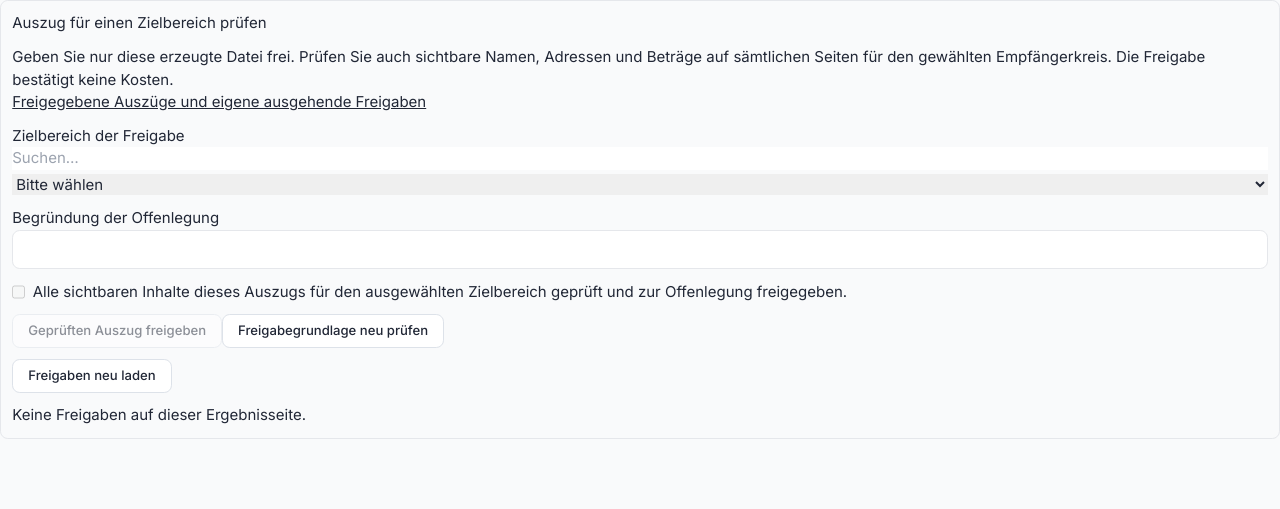
Scenario: handles an uncertain publication followed by target status 404
Select "Selected destination · WEG" in the dropdown named "Zielbereich der Freigabe" at coordinates (640, 184), box [12,174,1268,194]
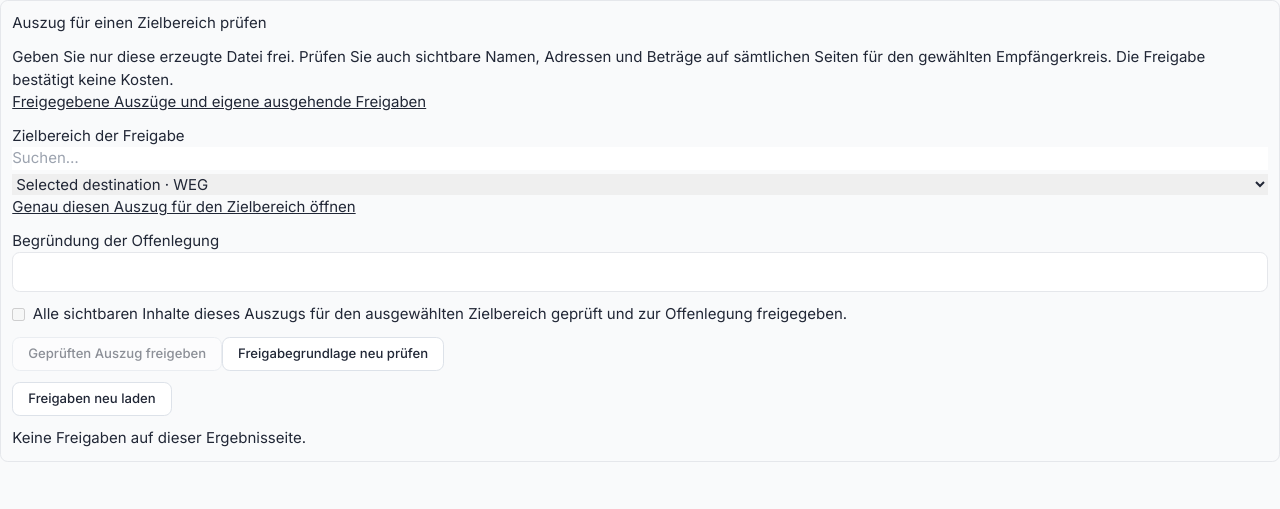
Click the link "Genau diesen Auszug für den Zielbereich öffnen" at coordinates (184, 206), box [12,197,356,216]
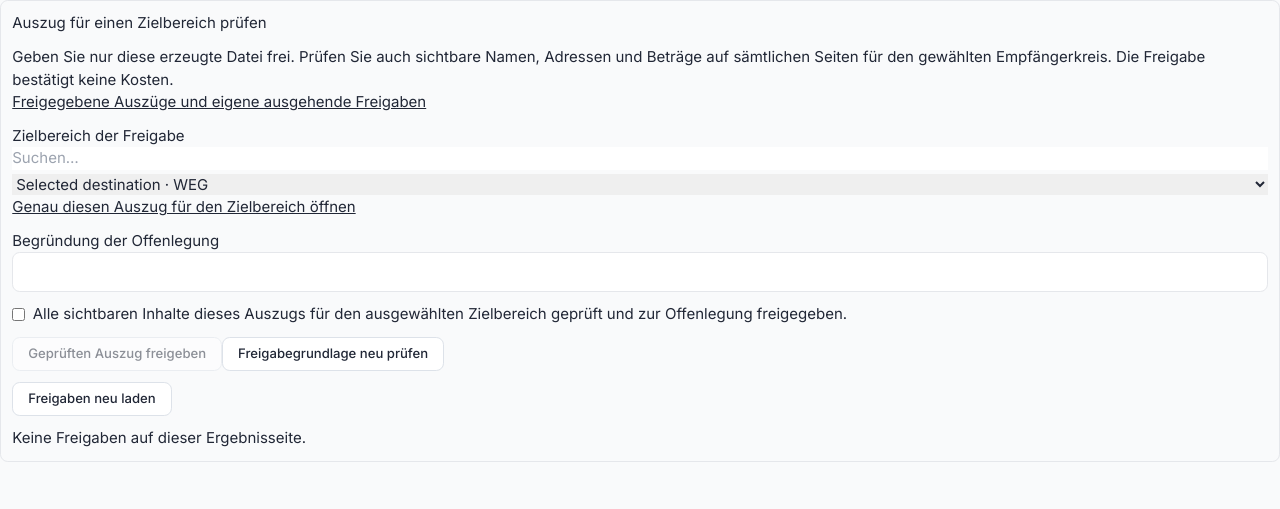
Type "Visible content reviewed for chosen audience" into the field labelled "Begründung der Offenlegung" at coordinates (640, 272), box [12,252,1268,292]
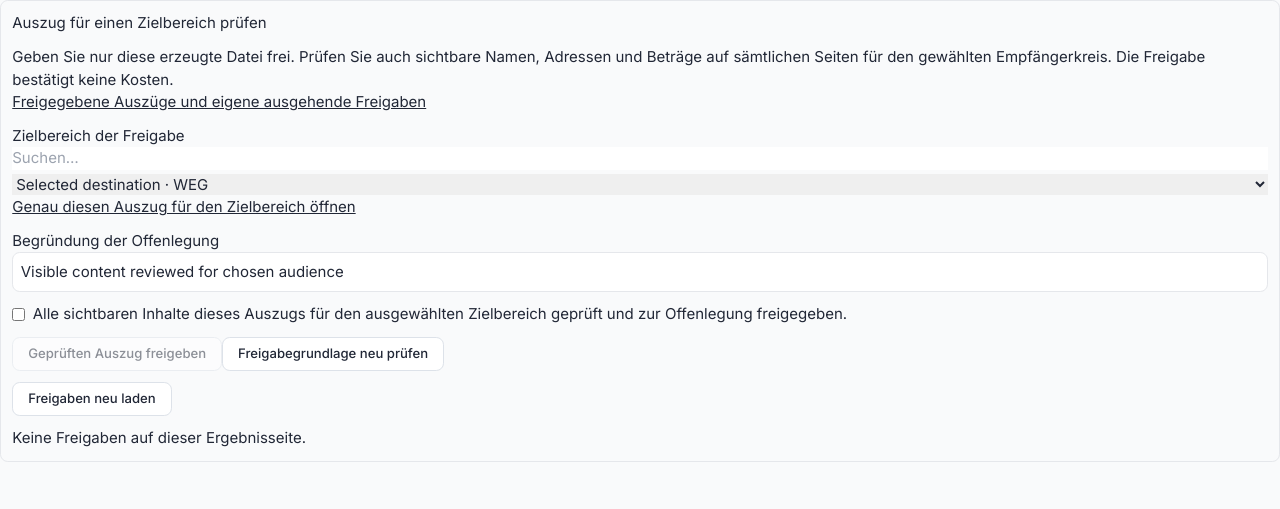
Click the checkbox labelled "Alle sichtbaren Inhalte dieses Auszugs" at coordinates (19, 314), box [12,303,25,326]
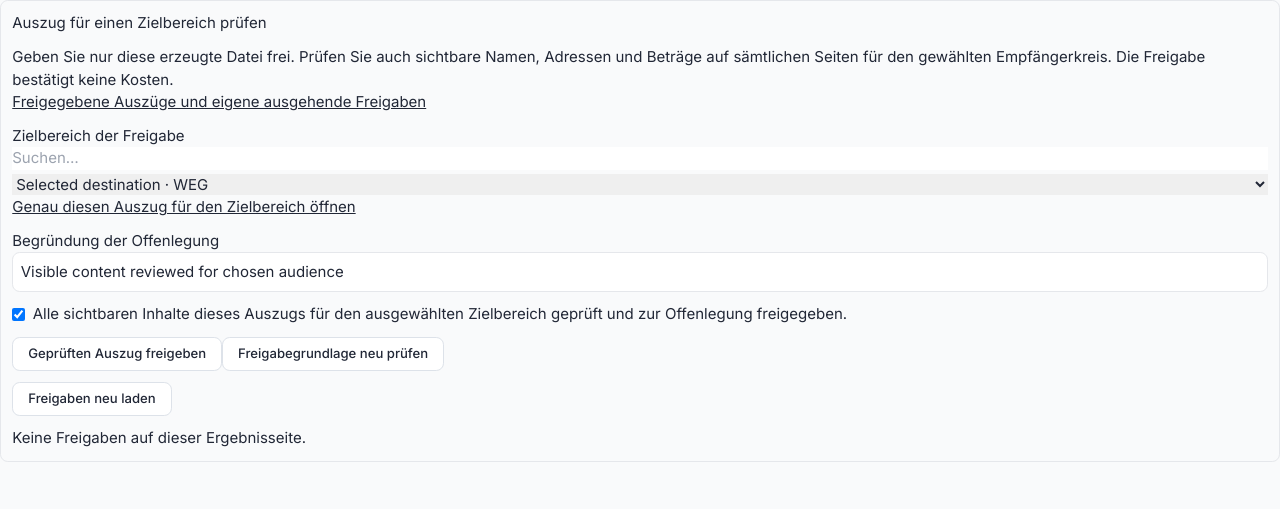
Click the button "Geprüften Auszug freigeben" at coordinates (117, 354), box [12,337,222,371]
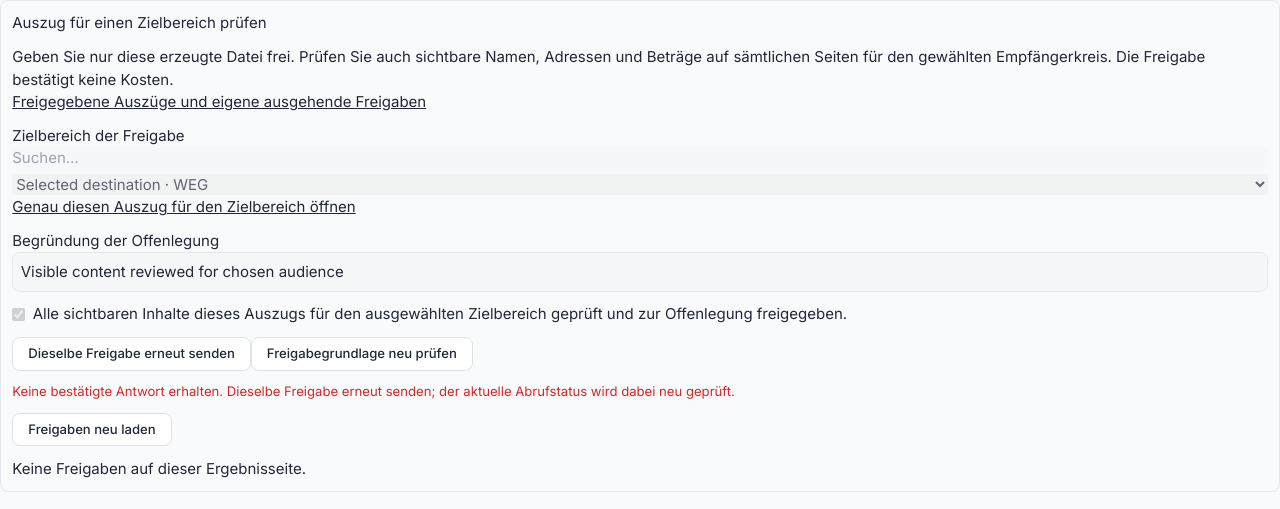
Now the text "Keine bestätigte Antwort" is shown, box [12,383,735,399]
Click the button "Freigabegrundlage neu prüfen" at coordinates (362, 354), box [251,337,473,371]
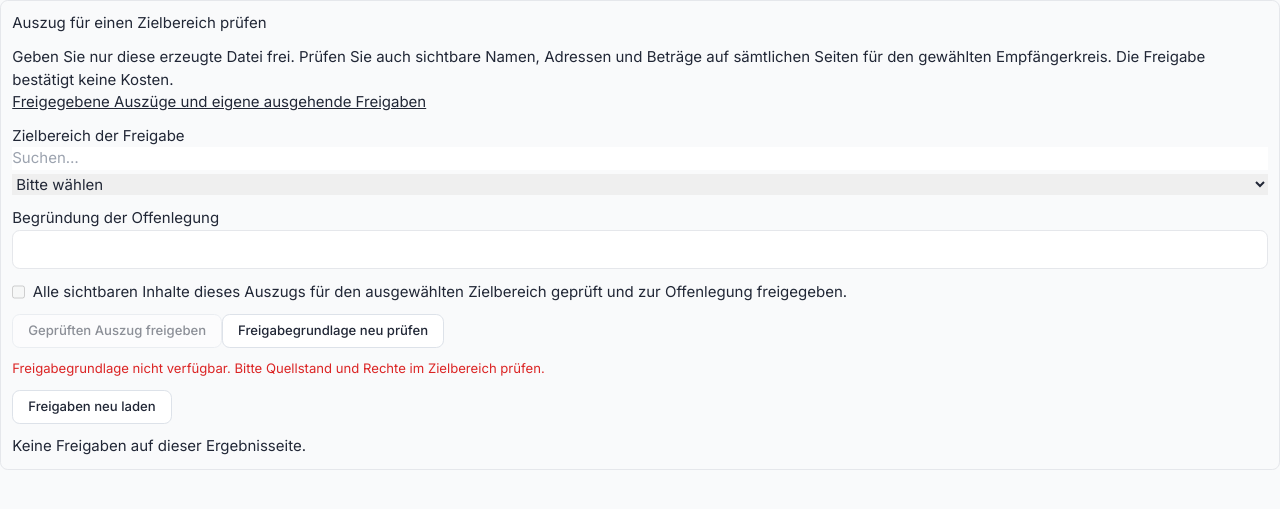
Now the text "Freigabegrundlage nicht verfügbar" is shown, box [12,360,545,376]
Now the button "Dieselbe Freigabe erneut senden" is gone
Now the field labelled "Begründung der Offenlegung" is empty, box [12,230,1268,269]
